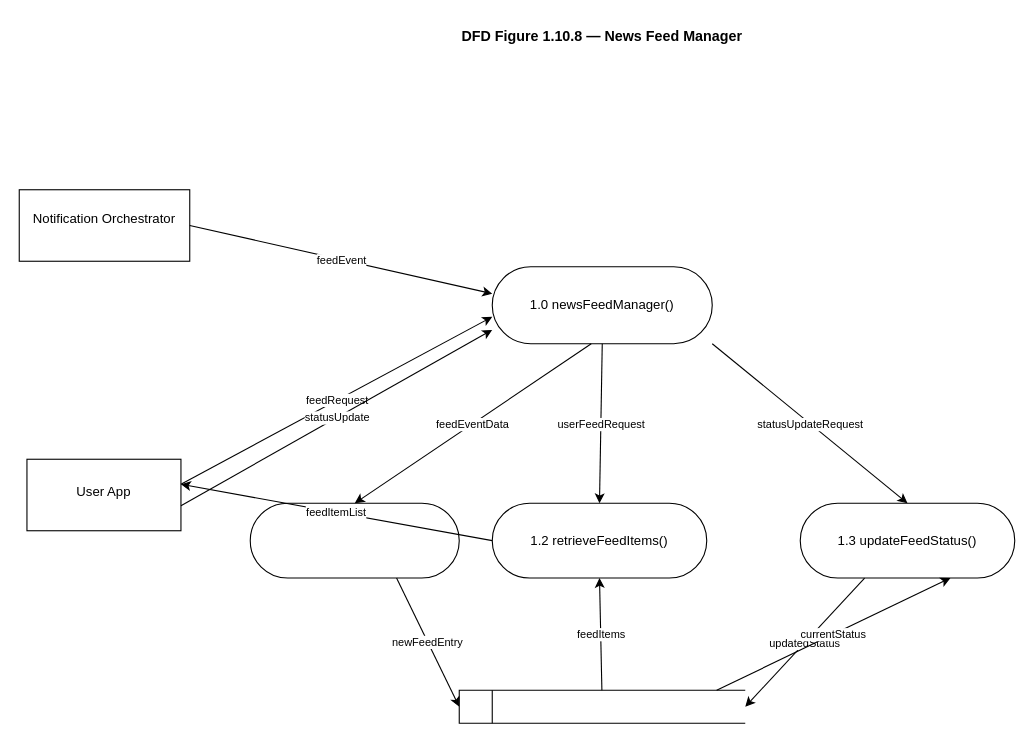
This 1034x743 diagram has some shape labels left out. Each missing label, with the box of its shape:
1.1 createFeedEntry(): (249, 502, 459, 578)
D1 Feed Item Repository: (458, 689, 745, 723)
